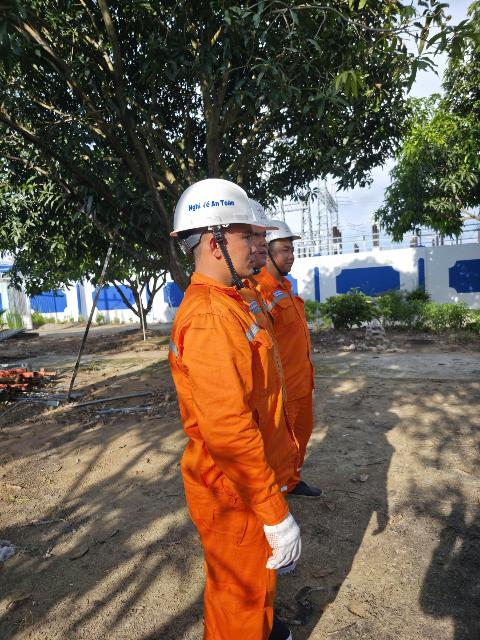gloves: (261, 506, 315, 567)
helmet: (156, 174, 265, 239), (231, 188, 284, 242), (259, 208, 307, 254)
shoes: (279, 470, 328, 503), (253, 609, 298, 640)
